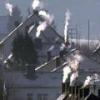chimneys: (24, 62, 38, 80)
